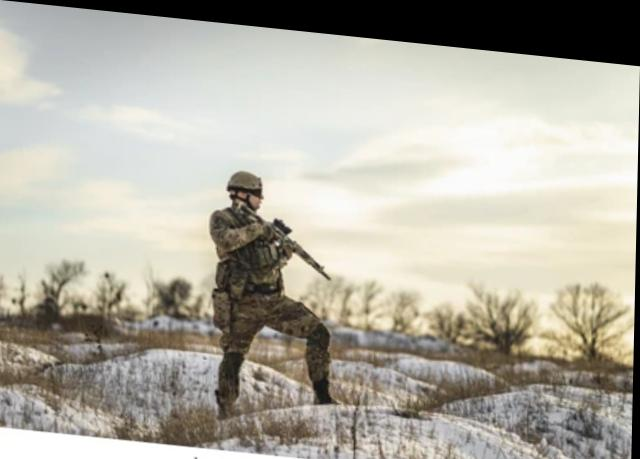other: (210, 163, 337, 401)
